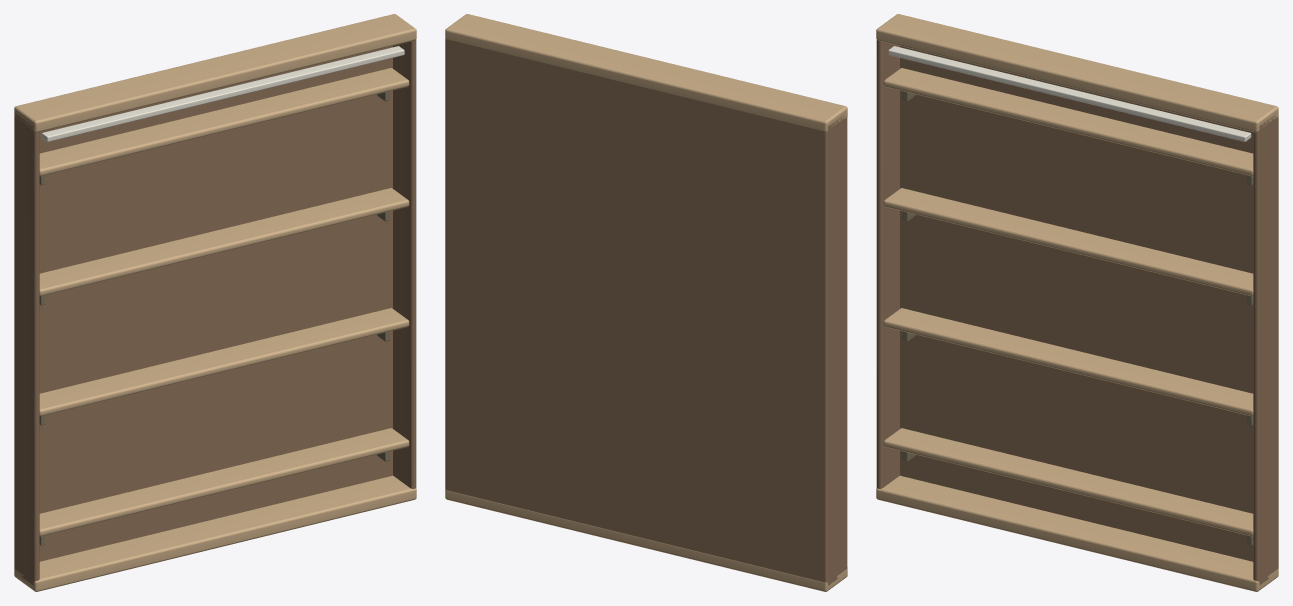
Rendered from wall_home.glb.
3 views of the same model, side by side, from view 1: azimuth 30°, elevation 25°; view 2: azimuth 150°, elevation 25°; view 3: azimuth 330°, elevation 25° (orthographic).
Visible parts, largest first — view 1: Closed back, seated against existing opaque boundary, Bottom / crown.001, Outer stile, Bottom / crown, Outer stile.001, Load-bearing shelf.002, Load-bearing shelf, Load-bearing shelf.001, Load-bearing shelf.003, Integrated light diffuser; view 2: Closed back, seated against existing opaque boundary, Bottom / crown.001, Outer stile, Bottom / crown; view 3: Closed back, seated against existing opaque boundary, Bottom / crown.001, Outer stile.001, Bottom / crown, Outer stile, Load-bearing shelf.002, Load-bearing shelf, Load-bearing shelf.001, Load-bearing shelf.003, Integrated light diffuser.
Boxes of the visible parts, x1,y1,x2,y2 form: Closed back, seated against existing opaque boundary: (14,46,392,568); Bottom / crown.001: (14,14,416,132); Outer stile: (15,113,39,584); Bottom / crown: (14,475,416,591); Outer stile.001: (393,40,416,488); Load-bearing shelf.002: (39,188,409,296); Load-bearing shelf: (39,428,409,536); Load-bearing shelf.001: (39,308,409,416); Load-bearing shelf.003: (39,68,409,176); Integrated light diffuser: (41,46,404,141); Closed back, seated against existing opaque boundary: (445,39,828,585); Bottom / crown.001: (445,14,847,131); Outer stile: (828,115,847,584); Bottom / crown: (445,490,847,591); Closed back, seated against existing opaque boundary: (900,46,1278,568); Bottom / crown.001: (876,14,1278,132); Outer stile.001: (1253,115,1277,584); Bottom / crown: (876,475,1278,591); Outer stile: (876,40,899,488); Load-bearing shelf.002: (883,188,1253,296); Load-bearing shelf: (883,428,1253,536); Load-bearing shelf.001: (883,308,1253,416); Load-bearing shelf.003: (883,68,1253,176); Integrated light diffuser: (888,46,1251,141).
Size of the model in its own units: 2 by 2.36 by 0.2.
